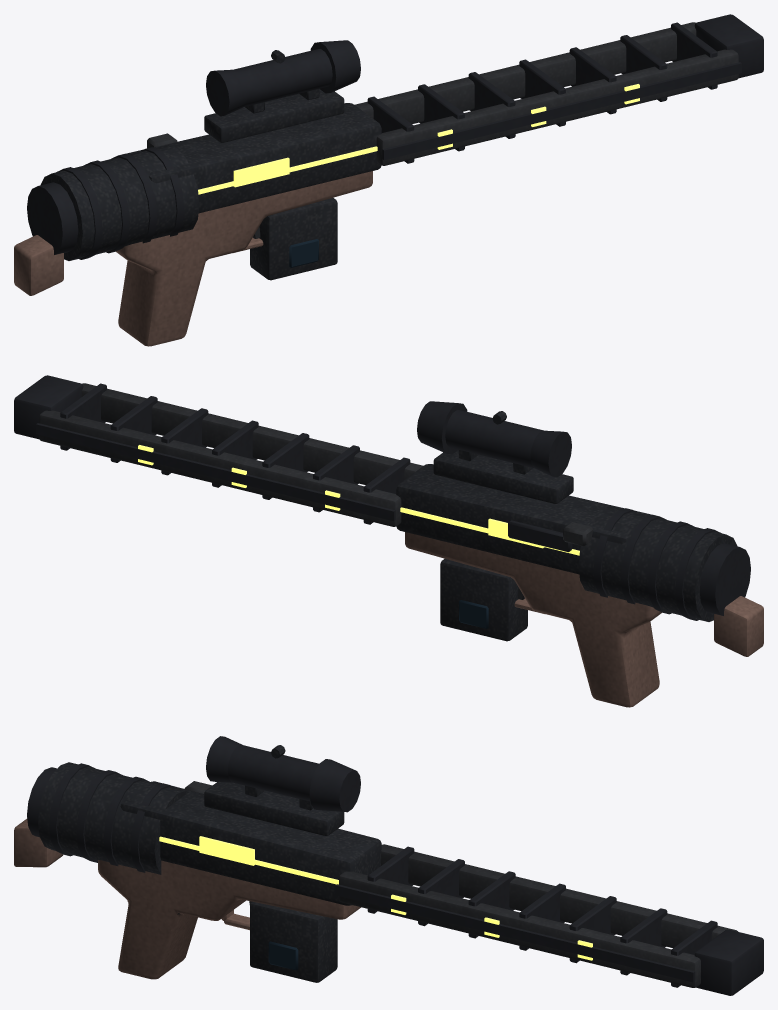
The model's file is railgun_r4.fbx.
The picture shows the model from 3 angles, top to bottom: view 1: azimuth 30°, elevation 25°; view 2: azimuth 150°, elevation 25°; view 3: azimuth 330°, elevation 25°; orthographic projection.
Visible parts, largest first — view 1: Body, Magazine, Glow; view 2: Body, Magazine, Bolt, Glow; view 3: Body, Magazine, Glow.
Part boxes in pixels (x1,y1,x2,y2): Body: (14,14,763,346); Magazine: (250,198,337,280); Glow: (198,84,639,194); Body: (14,375,763,707); Magazine: (440,559,527,641); Bolt: (508,520,593,552); Glow: (138,445,579,555); Body: (14,736,763,995); Magazine: (250,901,337,982); Glow: (159,836,592,960).
Size of the model in its own units: 9.35 by 3.08 by 1.08.
Materials: 2 (1 with a texture image).
